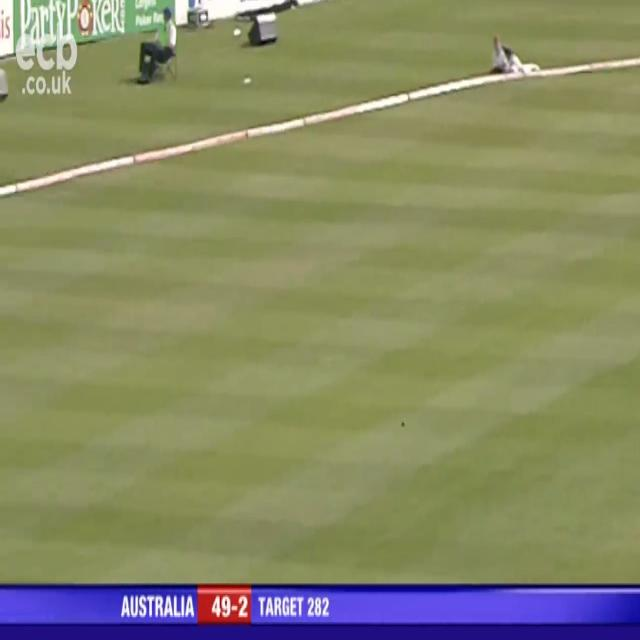ball: (399, 417, 408, 432)
